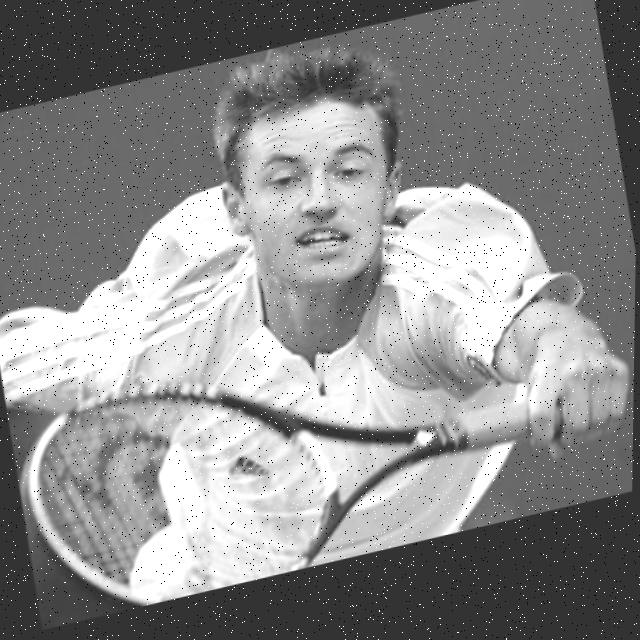face: (212, 80, 417, 326)
